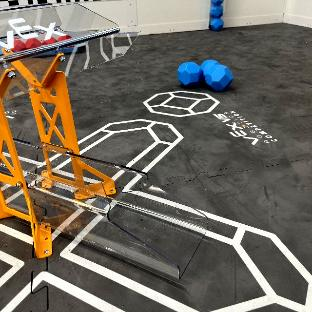V5_BLUE: (177, 60, 232, 90), (210, 0, 222, 31)
